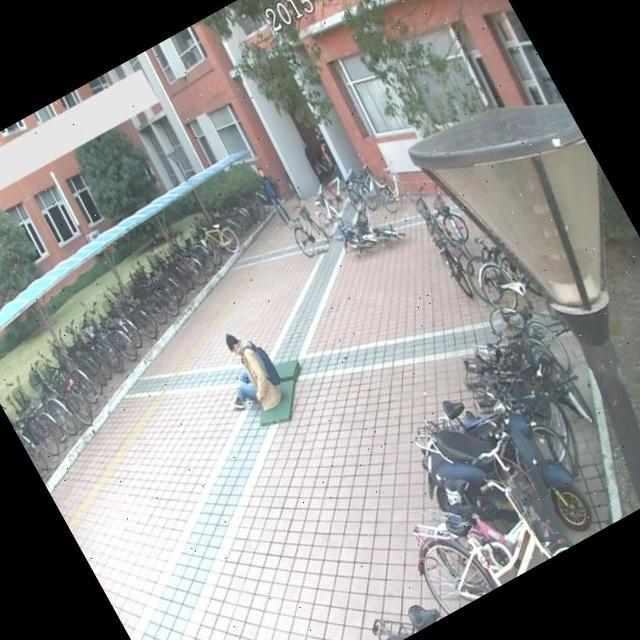person: (198, 316, 292, 424), (246, 158, 299, 232)
